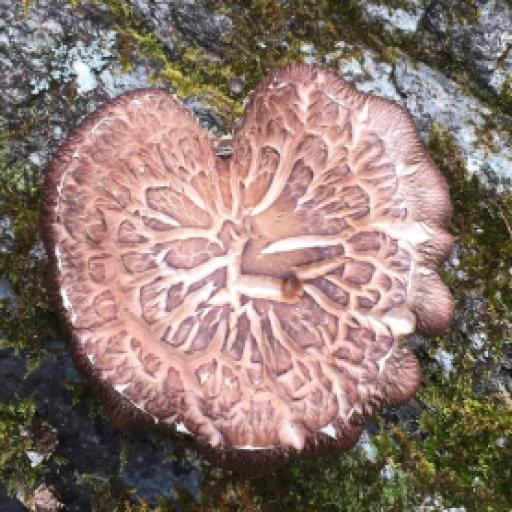Shiitake Mushroom: (46, 76, 455, 456)
